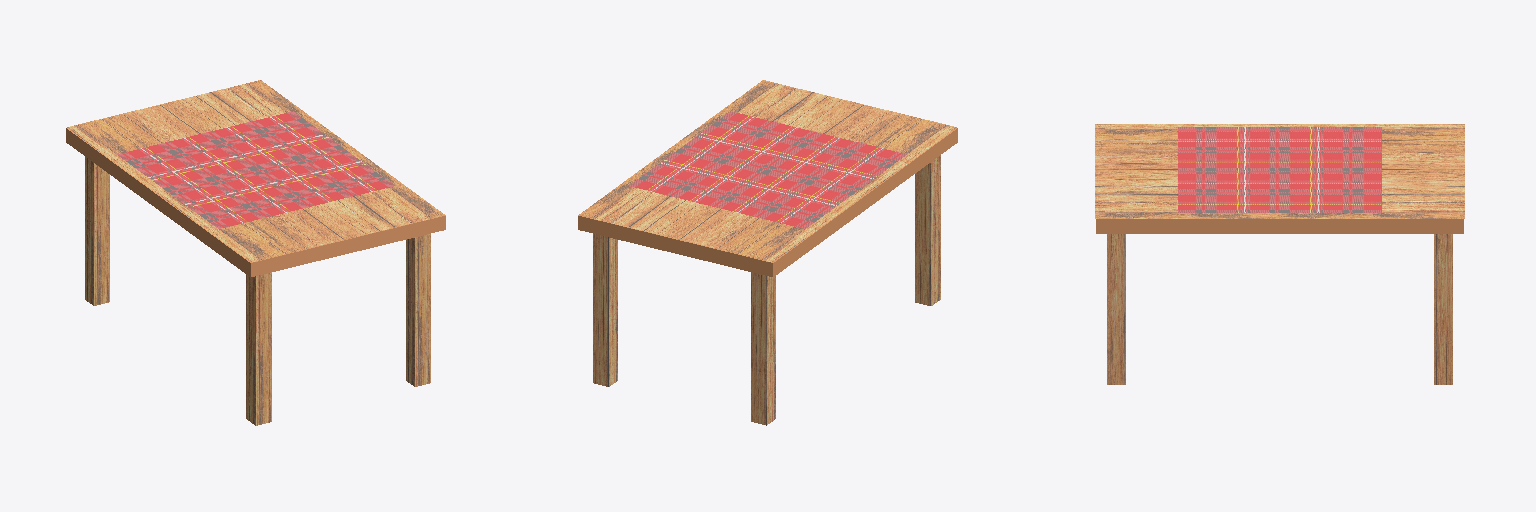
3 renders of one model, left to right at view 1: azimuth 30°, elevation 25°; view 2: azimuth 150°, elevation 25°; view 3: azimuth 270°, elevation 25°, orthographic.
Visible parts, largest first — view 1: 平面.001; view 2: 平面.001; view 3: 平面.001.
Boxes of the visible parts, <box> form: 平面.001: <box>66,80,445,425</box>; 平面.001: <box>578,80,957,425</box>; 平面.001: <box>1095,124,1464,384</box>.
Bounding box in the file's own units: 2.32 × 1.95 × 3.8.
2 materials, 2 textured.